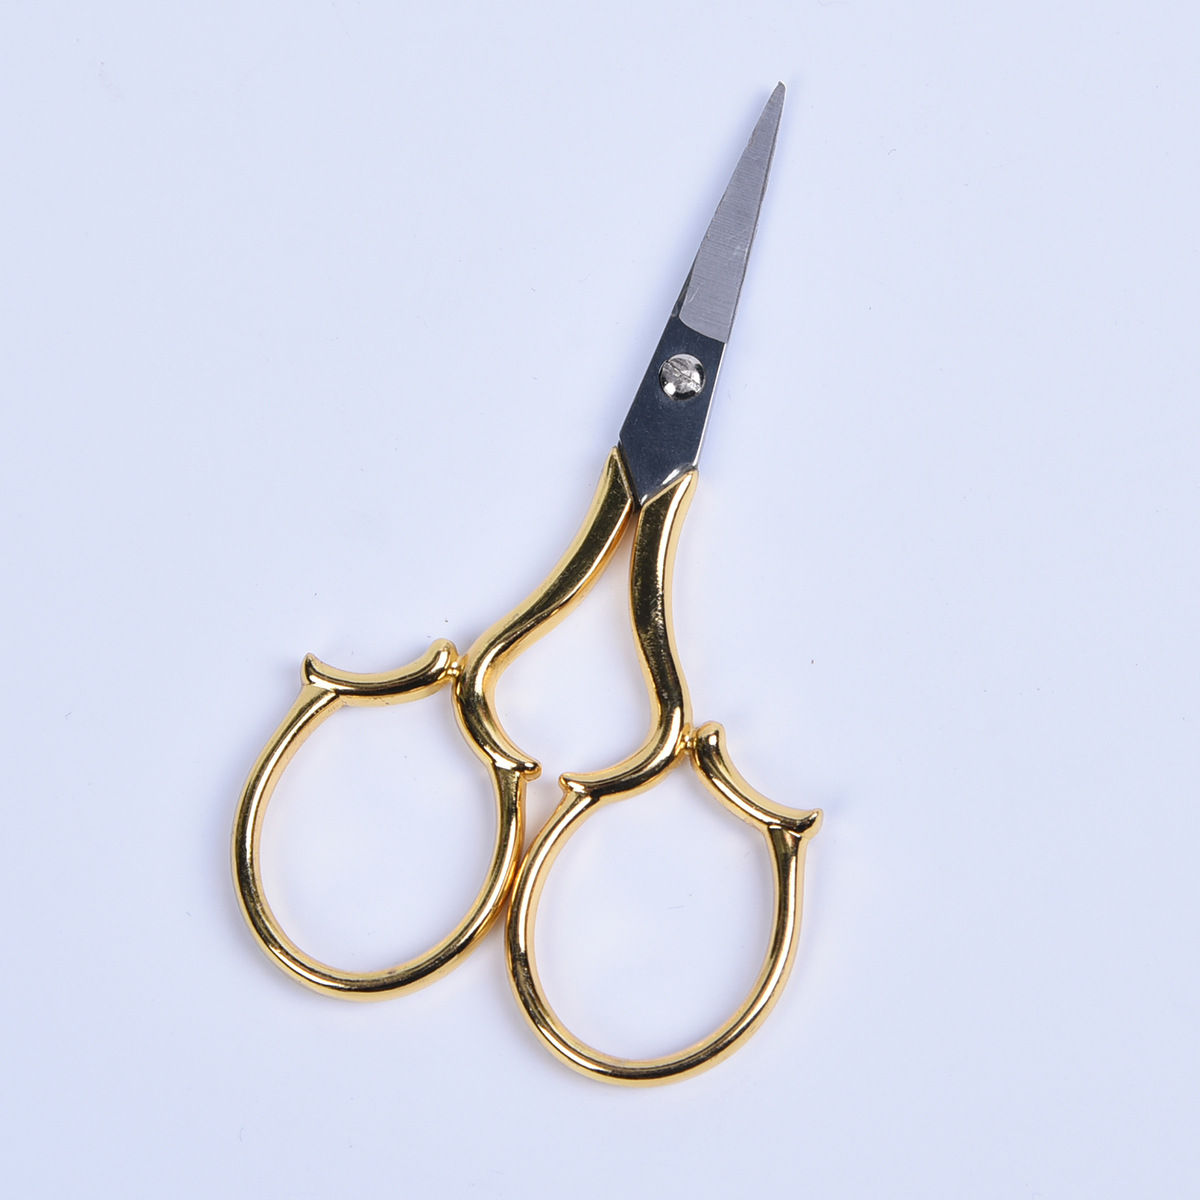scissors: (199, 76, 863, 1114)
